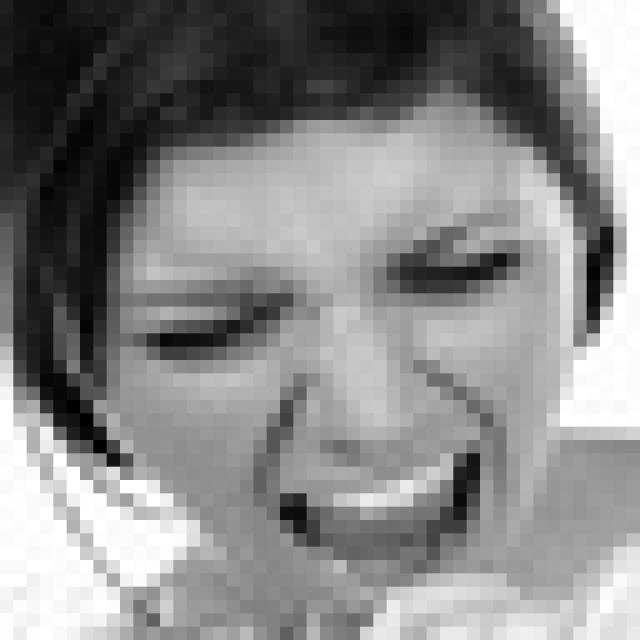angry: (110, 197, 552, 585)
